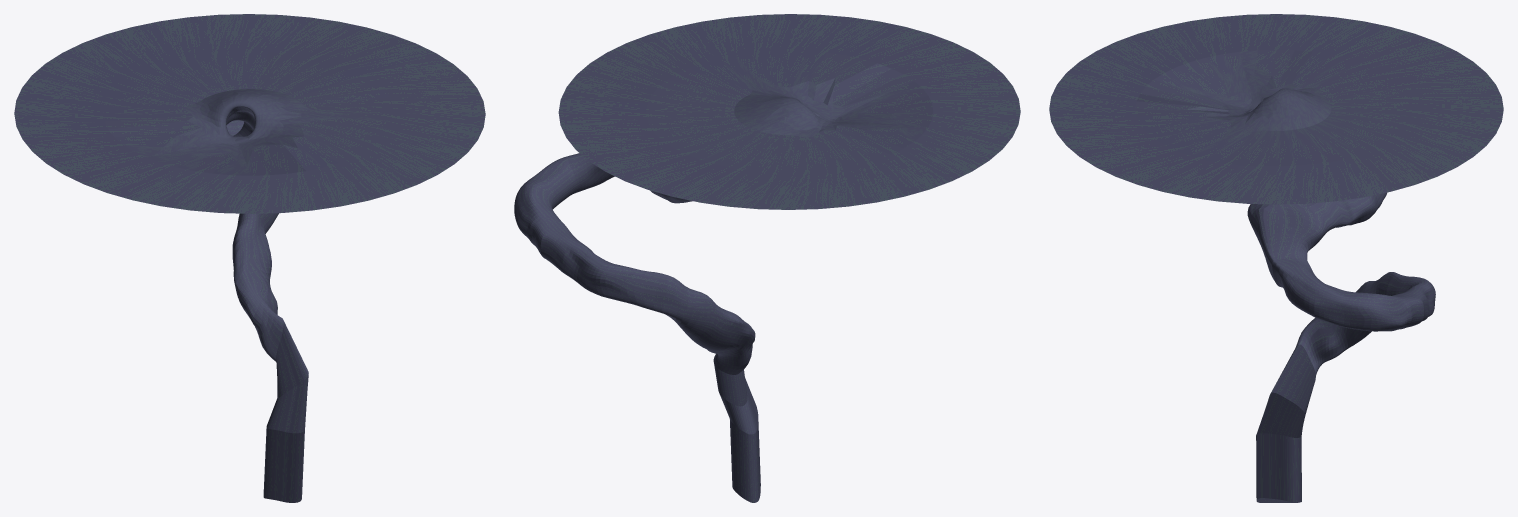
File: Tunnel.fbx
3 renders of one model, left to right at view 1: azimuth 30°, elevation 25°; view 2: azimuth 150°, elevation 25°; view 3: azimuth 270°, elevation 25°, orthographic. The views are drawn at different scales.
Parts seen in each view (by area): view 1: Torus; view 2: Torus; view 3: Torus.
Part boxes in pixels (x1=…): Torus: x1=14, y1=14, x2=485, y2=502; Torus: x1=514, y1=14, x2=1020, y2=502; Torus: x1=1049, y1=14, x2=1503, y2=502.
Size of the model in its own units: 14151 by 12890 by 13460.
